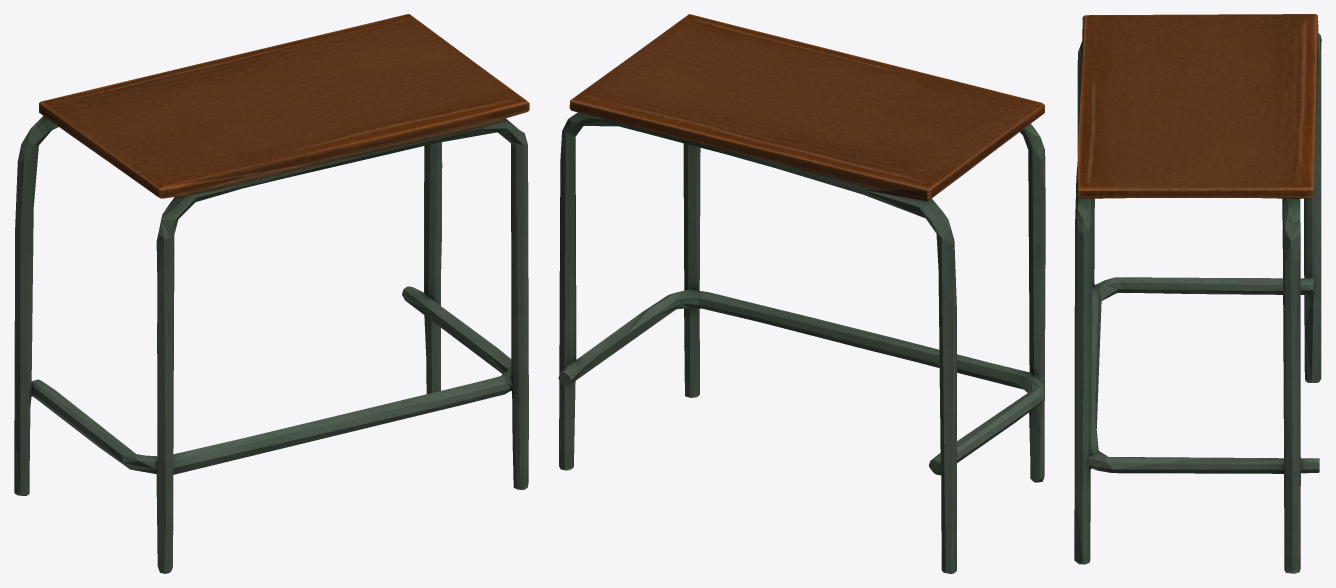
Rendered from classroom-desk.glb.
3 views of the same model, side by side, from view 1: azimuth 30°, elevation 25°; view 2: azimuth 150°, elevation 25°; view 3: azimuth 270°, elevation 25° (orthographic). The views are drawn at different scales.
Visible parts, largest first — view 1: geometry_0; view 2: geometry_0; view 3: geometry_0.
Part boxes in pixels (x1,y1,x2,y2): geometry_0: (14,14,529,573); geometry_0: (558,14,1045,573); geometry_0: (1074,14,1321,573).
Bounding box in the file's own units: 1 × 0.8935 × 0.5295.
1 material, 1 textured.
